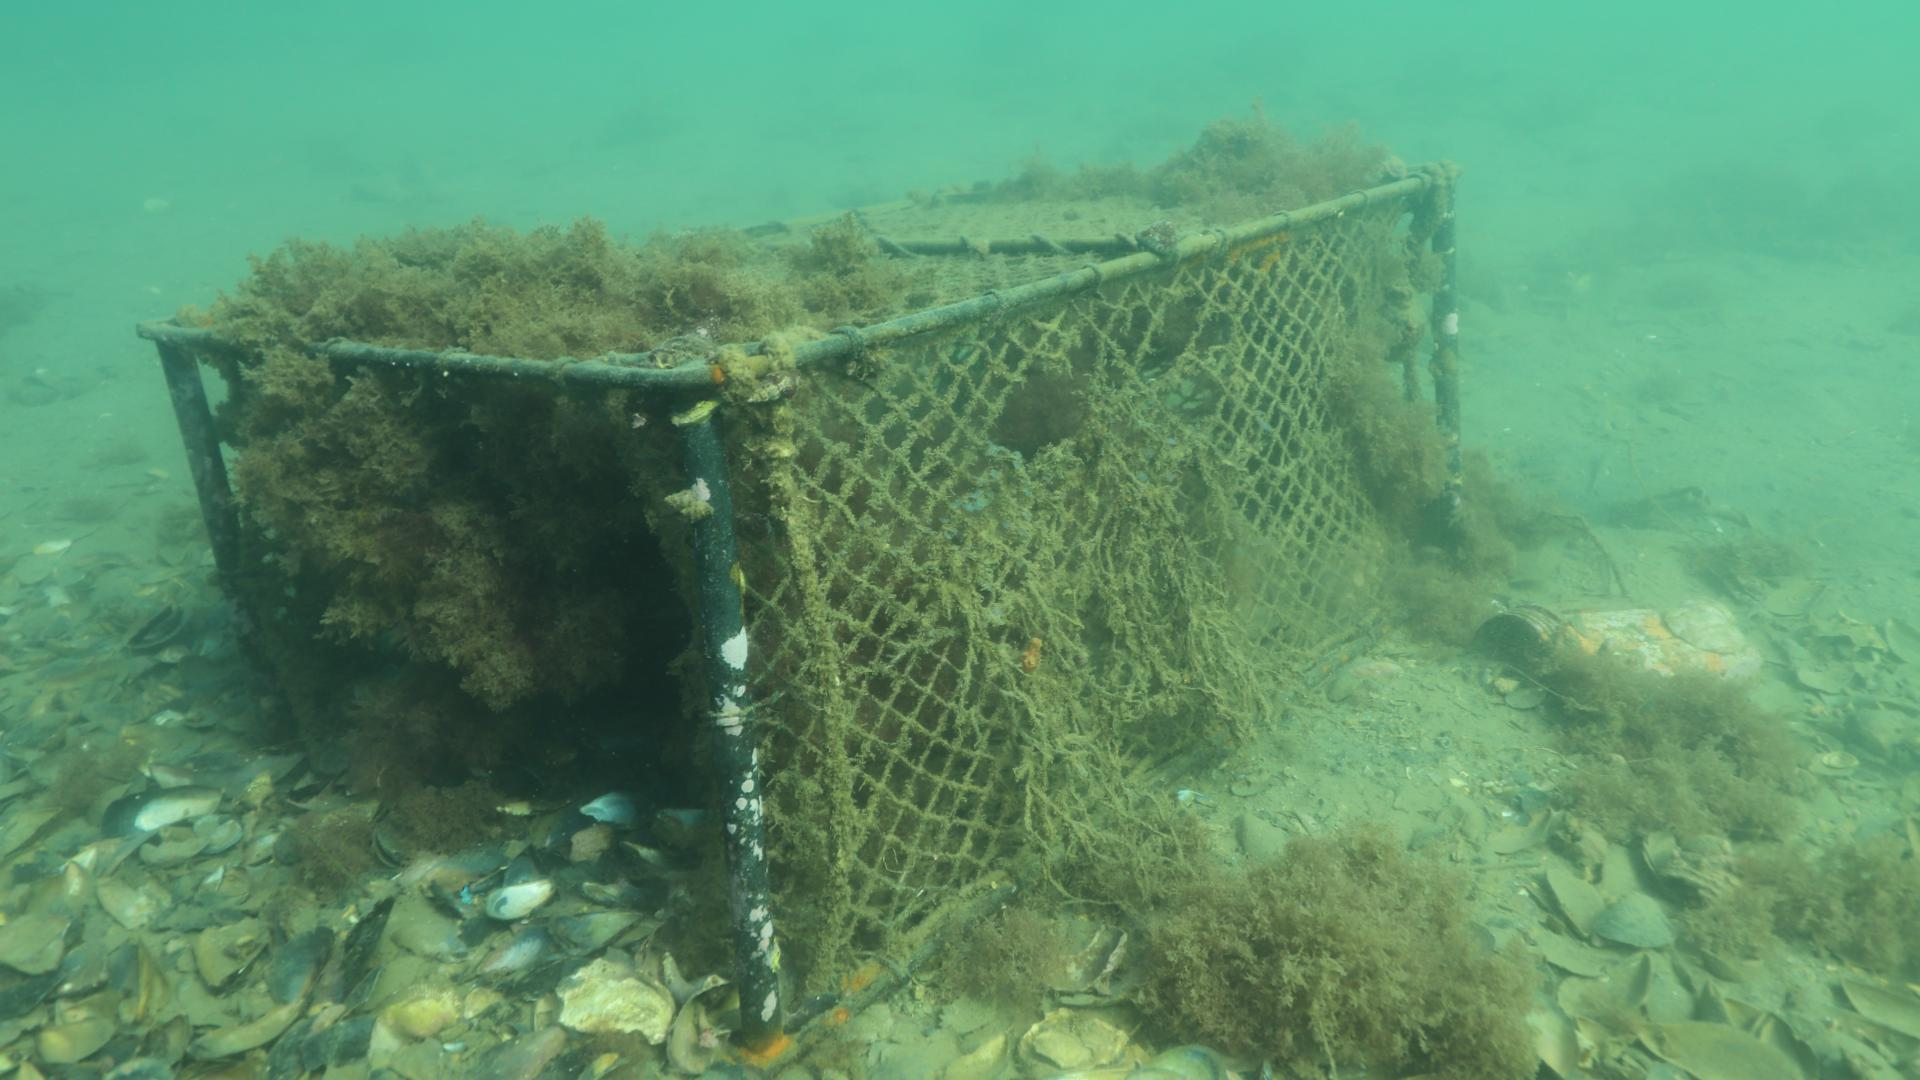rectangular fish trap: (132, 158, 1468, 1065)
